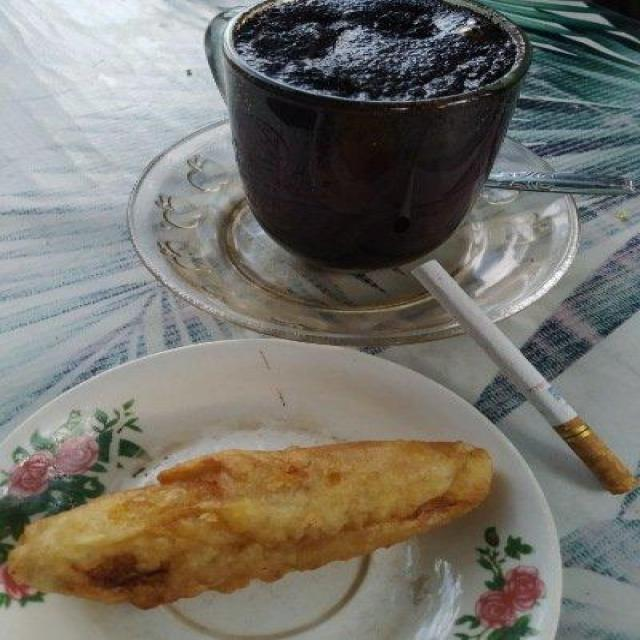rokok: (410, 258, 638, 500)
